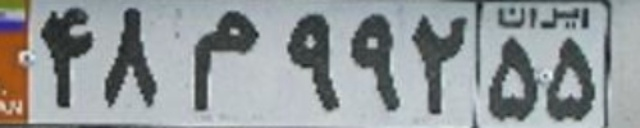2: (408, 14, 467, 114)
4: (40, 5, 93, 107)
5: (547, 36, 599, 122), (486, 38, 537, 119)
8: (99, 7, 160, 106)
9: (283, 13, 341, 111), (345, 13, 402, 110)
mim: (191, 8, 262, 111)
